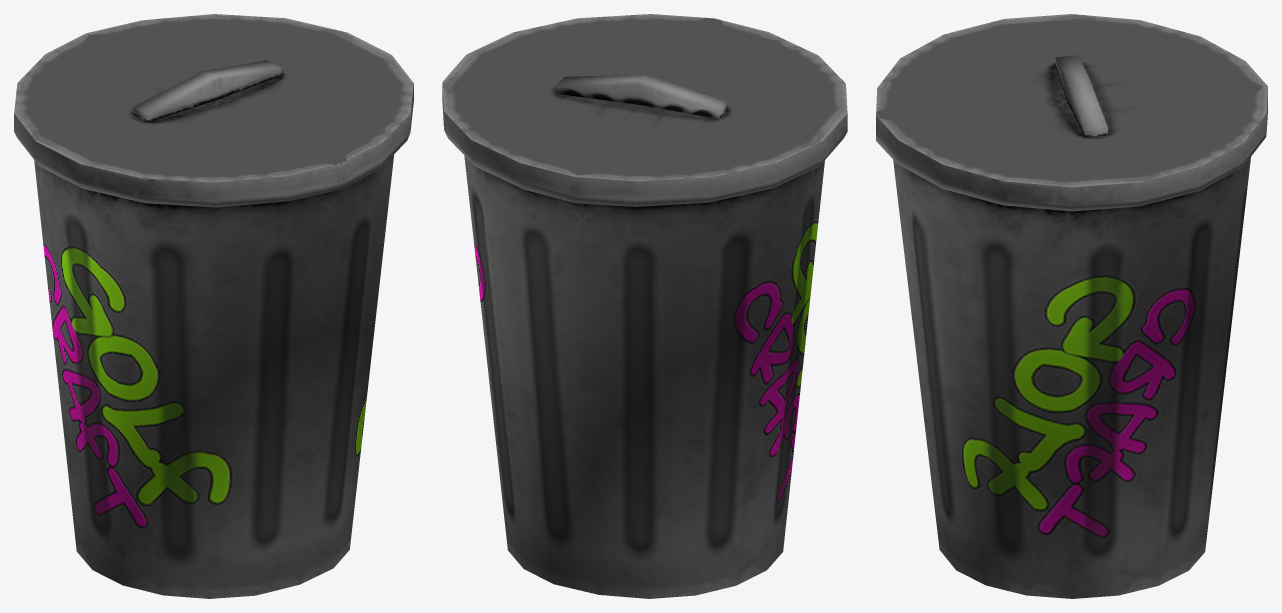
The model's file is urban_env_trash.gltf.
3 renders of one model, left to right at view 1: azimuth 30°, elevation 25°; view 2: azimuth 150°, elevation 25°; view 3: azimuth 270°, elevation 25°, orthographic.
Visible parts, largest first — view 1: urban_env_trash_glb; view 2: urban_env_trash_glb; view 3: urban_env_trash_glb.
Part boxes in pixels (bbox=[...]): urban_env_trash_glb: bbox=[14, 14, 413, 598]; urban_env_trash_glb: bbox=[442, 14, 847, 598]; urban_env_trash_glb: bbox=[876, 14, 1267, 598].
Size of what is drawn, in the model's own units: 0.8047 by 1 by 0.7713.
1 material, 1 textured.
